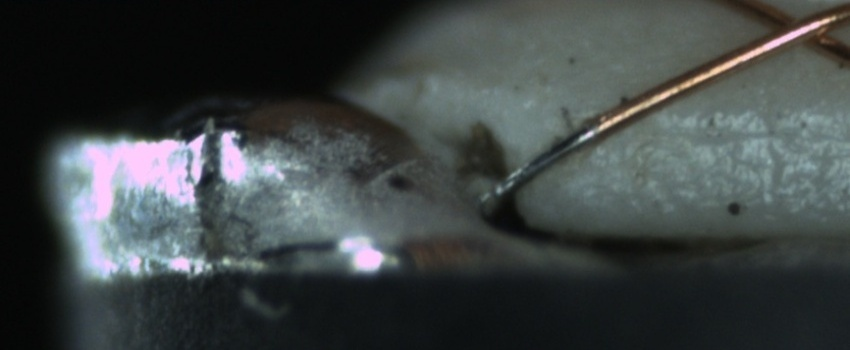CL: (744, 0, 847, 58)
DL: (636, 99, 848, 163)
TS: (485, 124, 597, 203)
TTCW: (490, 101, 633, 205)
